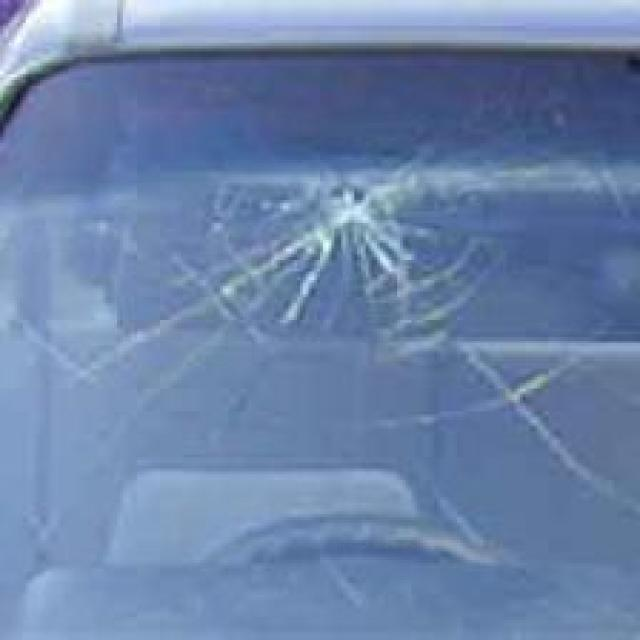damaged: (42, 148, 638, 506)
